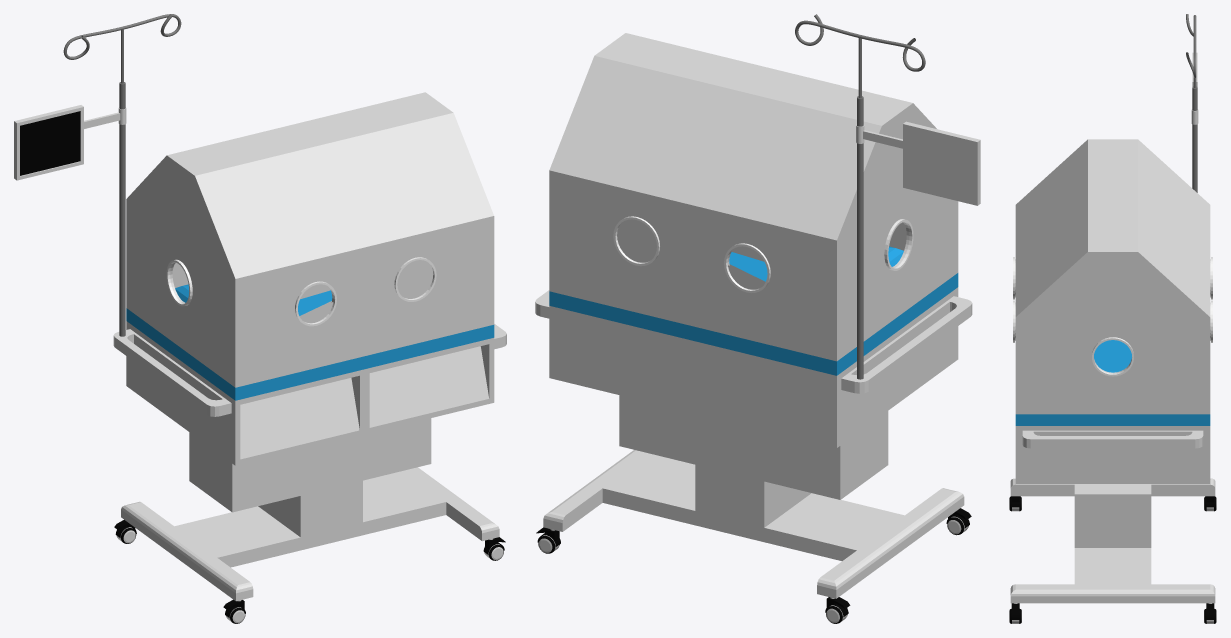
Rendered from BASI02.fbx.
3 renders of one model, left to right at view 1: azimuth 30°, elevation 25°; view 2: azimuth 150°, elevation 25°; view 3: azimuth 270°, elevation 25°, orthographic. The views are drawn at different scales.
Visible parts, largest first — view 1: BASI02; view 2: BASI02; view 3: BASI02.
Boxes of the visible parts, x1=… form: BASI02: x1=14, y1=14, x2=506, y2=623; BASI02: x1=535, y1=14, x2=980, y2=623; BASI02: x1=1009, y1=14, x2=1216, y2=623.
Size of the model in its own units: 160 by 203 by 81.
